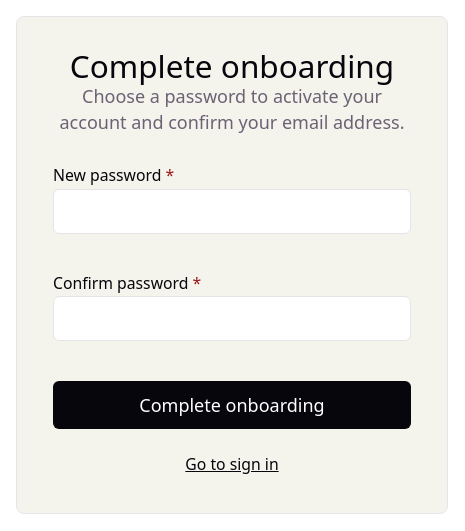
it: OnboardingPage › completes onboarding without persisting a session token
The width and height of the screenshot is (465, 531).
Type "validpass1" into the password field labelled "New password *" at (232, 211), box [53,188,411,234]
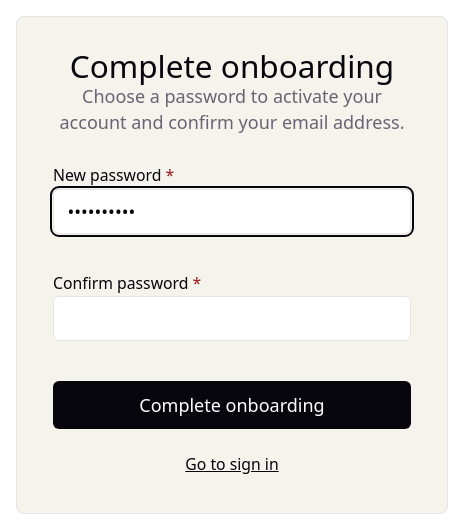
Type "validpass1" into the password field labelled "Confirm password *" at (232, 318), box [53,296,411,341]
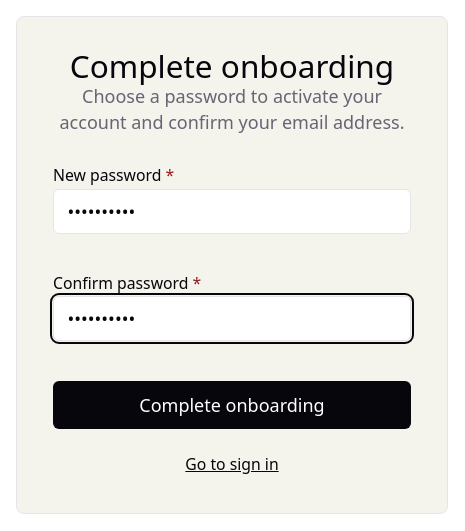
Click the button "Complete onboarding" at (232, 405), box [53,381,411,429]
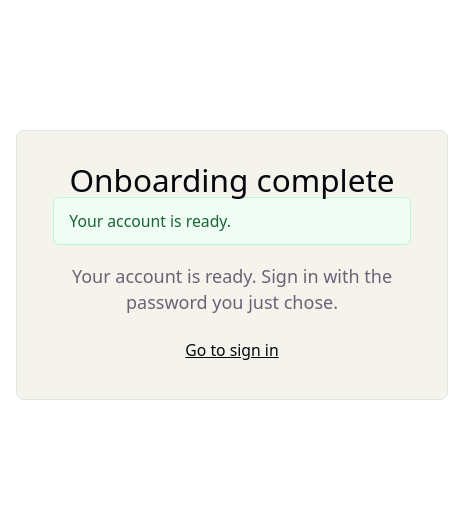
Check: the text "Your account is ready." is shown, box [53,197,411,245]
